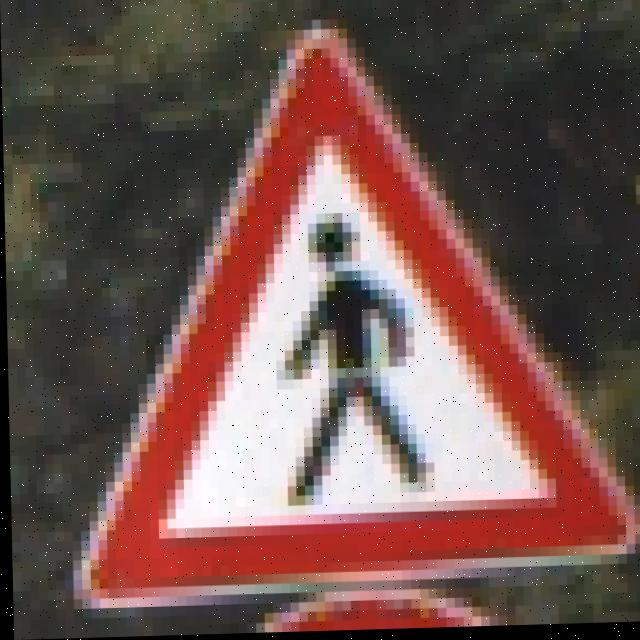crosswalk: (114, 49, 640, 598)
